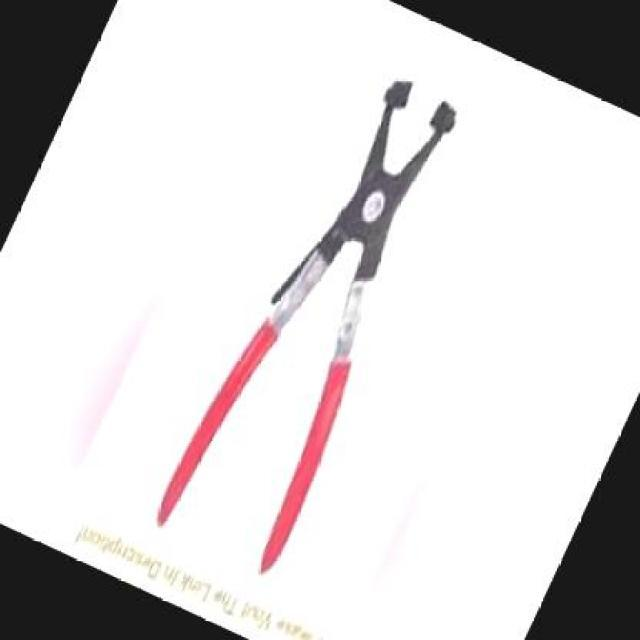pliers: (96, 21, 516, 602)
